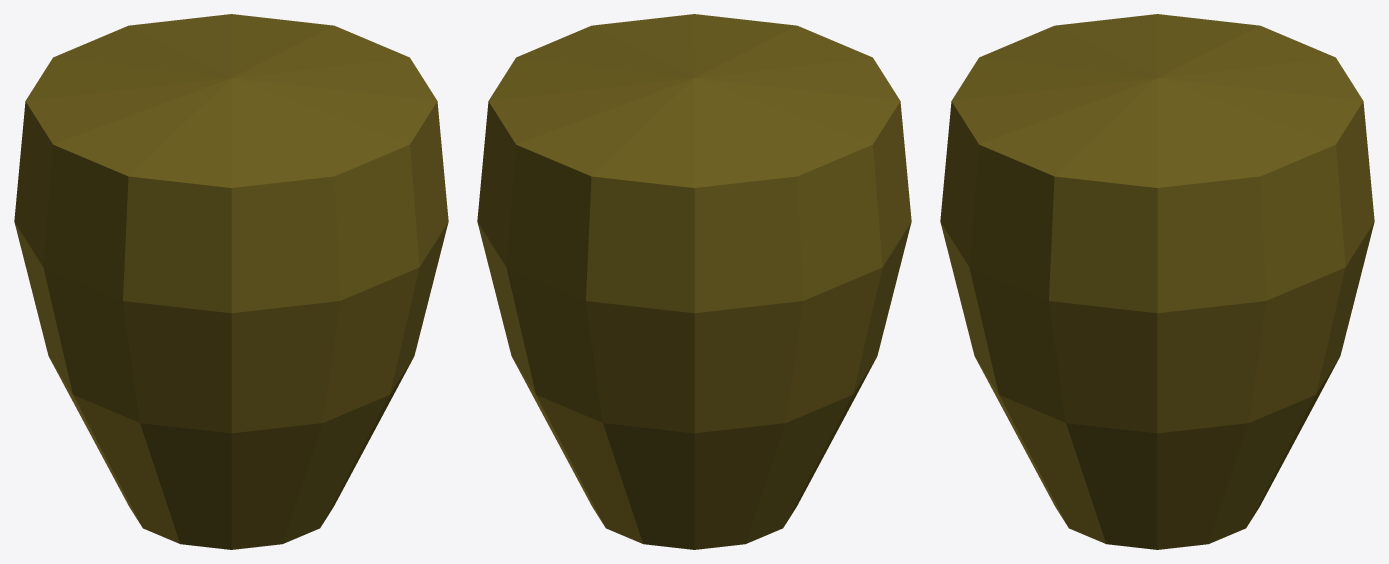
File: urn.fbx
3 renders of one model, left to right at view 1: azimuth 30°, elevation 25°; view 2: azimuth 150°, elevation 25°; view 3: azimuth 270°, elevation 25°, orthographic.
Visible parts, largest first — view 1: Cylinder; view 2: Cylinder; view 3: Cylinder.
Part boxes in pixels (left/top/right/bottom): Cylinder: left=14, top=14, right=448, bottom=549; Cylinder: left=477, top=14, right=911, bottom=549; Cylinder: left=940, top=14, right=1374, bottom=549.
Size of the model in its own units: 119 by 129 by 119.
